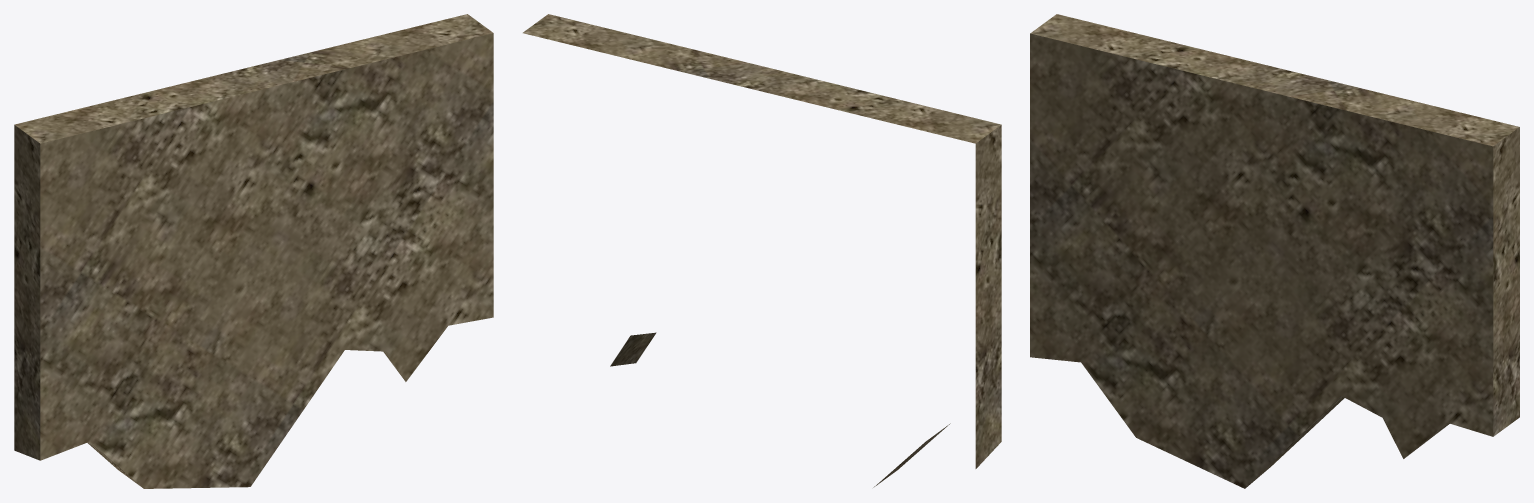
The picture shows the model from 3 angles, left to right: view 1: azimuth 30°, elevation 25°; view 2: azimuth 150°, elevation 25°; view 3: azimuth 330°, elevation 25°; orthographic projection. The views are drawn at different scales.
Parts seen in each view (by area): view 1: model_Object58; view 2: model_Object58; view 3: model_Object58.
Boxes of the visible parts, x1=… form: model_Object58: x1=14, y1=14, x2=493, y2=488; model_Object58: x1=523, y1=14, x2=1001, y2=487; model_Object58: x1=1030, y1=14, x2=1519, y2=488.
Size of the model in its own units: 2 by 1.66 by 0.2002.
1 material, 1 textured.
